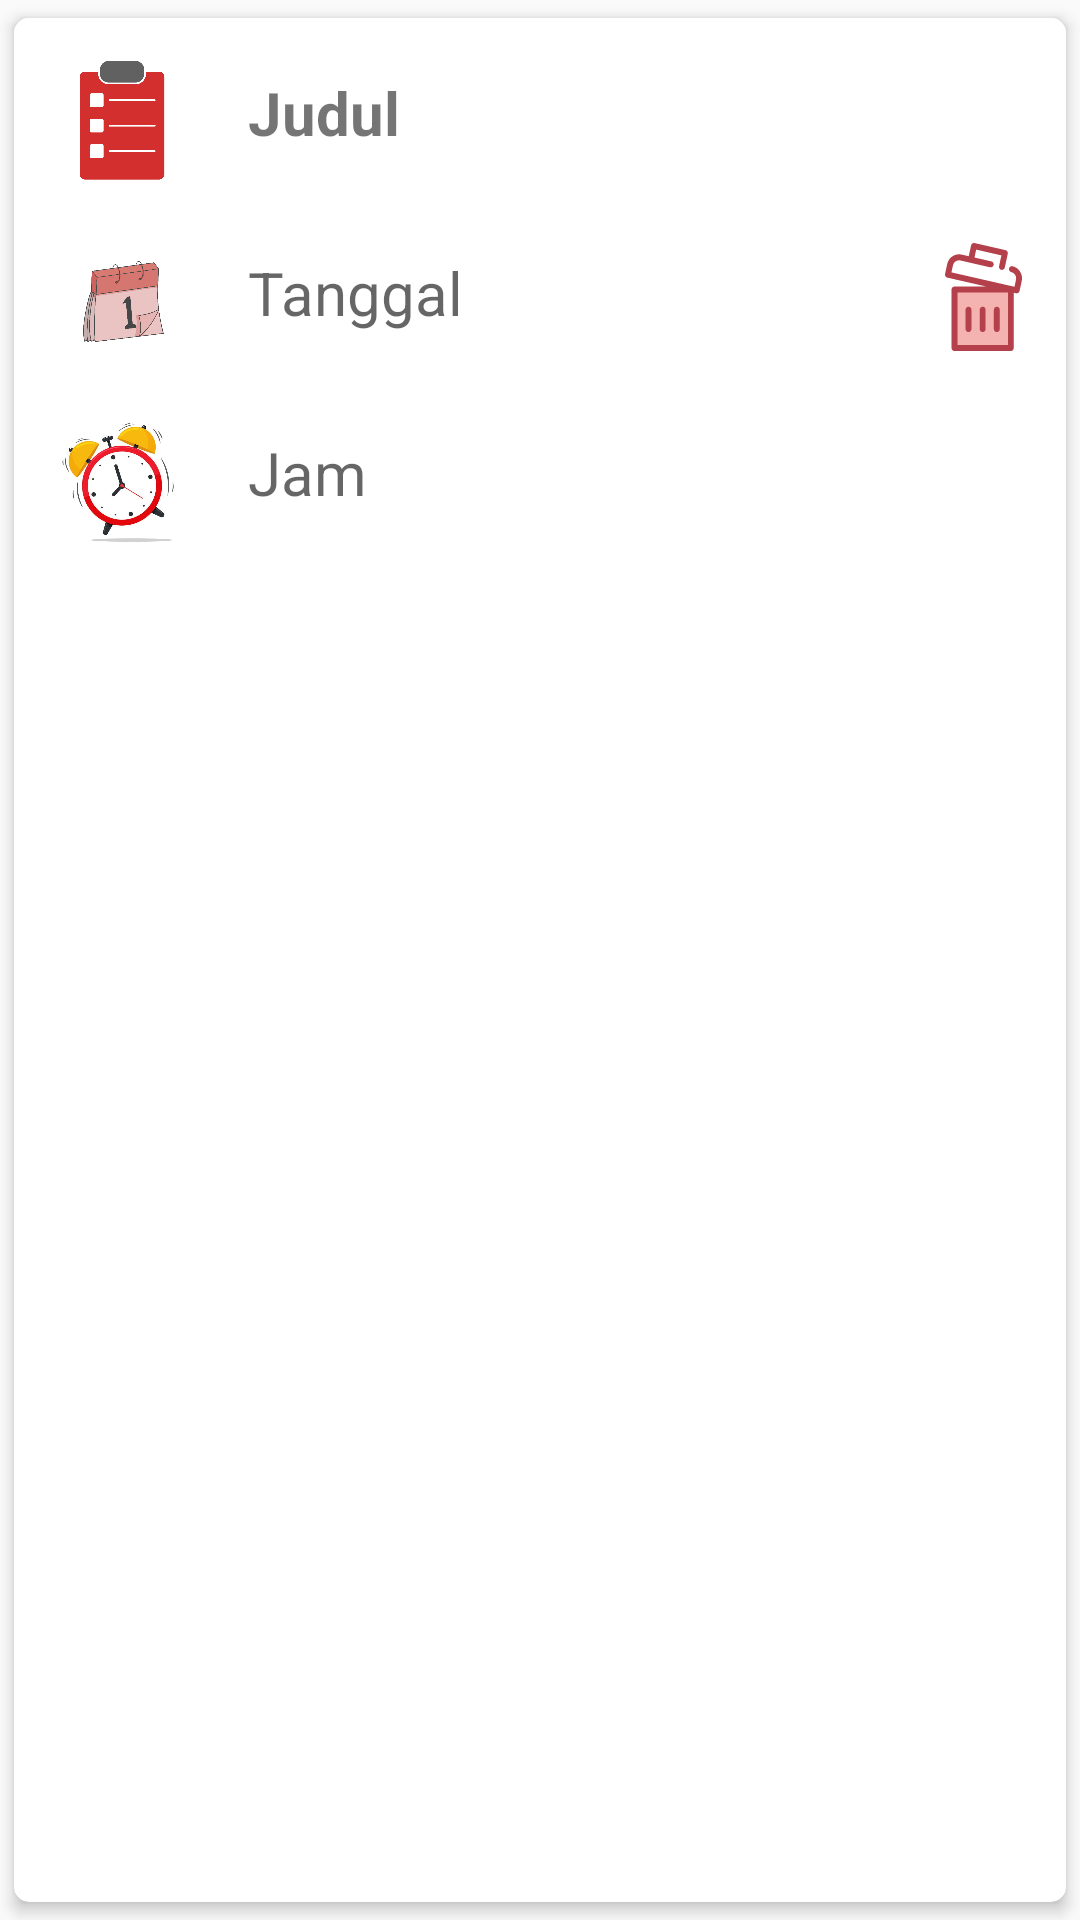

Screen size 1080w x 1920h. Icon name, then its box in pixels as [x1, y1, x2, y2]:
hapus: [945, 243, 1022, 351]
kalendar: [83, 261, 164, 342]
list: [80, 61, 165, 180]
